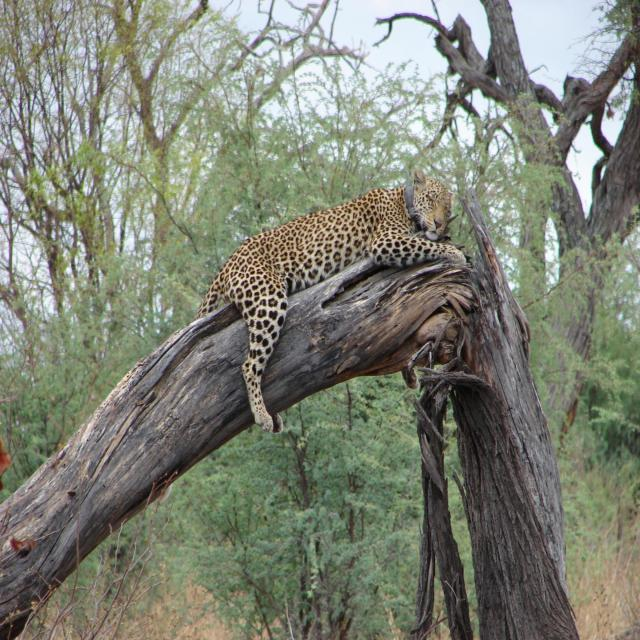Leopard: (172, 163, 463, 532)
